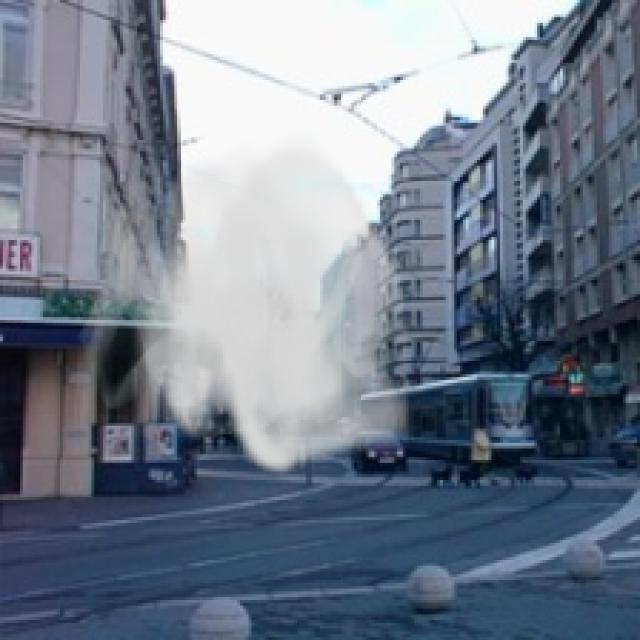Smoke: (71, 128, 420, 478)
